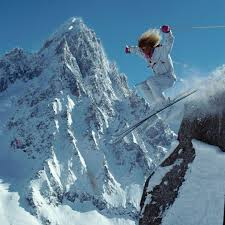snowboard: (109, 85, 200, 143)
